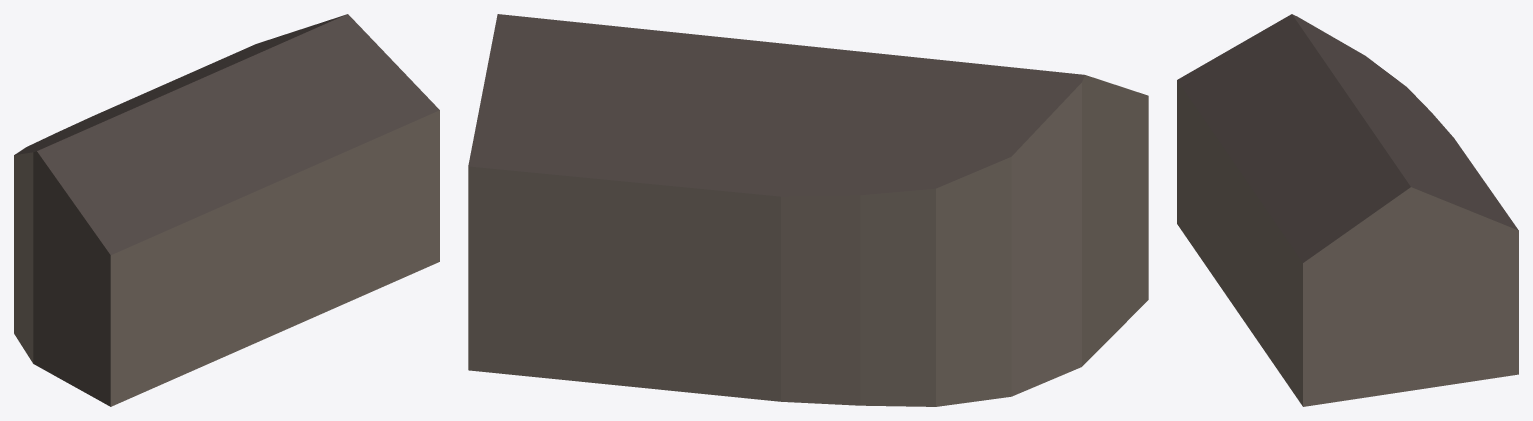
The picture shows the model from 3 angles, left to right: view 1: azimuth 30°, elevation 25°; view 2: azimuth 150°, elevation 25°; view 3: azimuth 270°, elevation 25°; orthographic projection. The views are drawn at different scales.
Visible parts, largest first — view 1: HP-w373833621; view 2: HP-w373833621; view 3: HP-w373833621.
Boxes of the visible parts, bbox=[...] form: HP-w373833621: bbox=[14, 14, 439, 406]; HP-w373833621: bbox=[468, 14, 1148, 406]; HP-w373833621: bbox=[1177, 14, 1518, 406].
Size of the model in its own units: 25.44 by 12.74 by 19.39.
